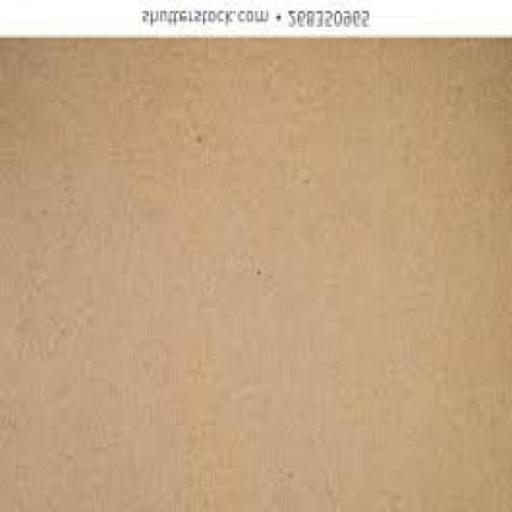cardboard: (0, 39, 511, 512)
